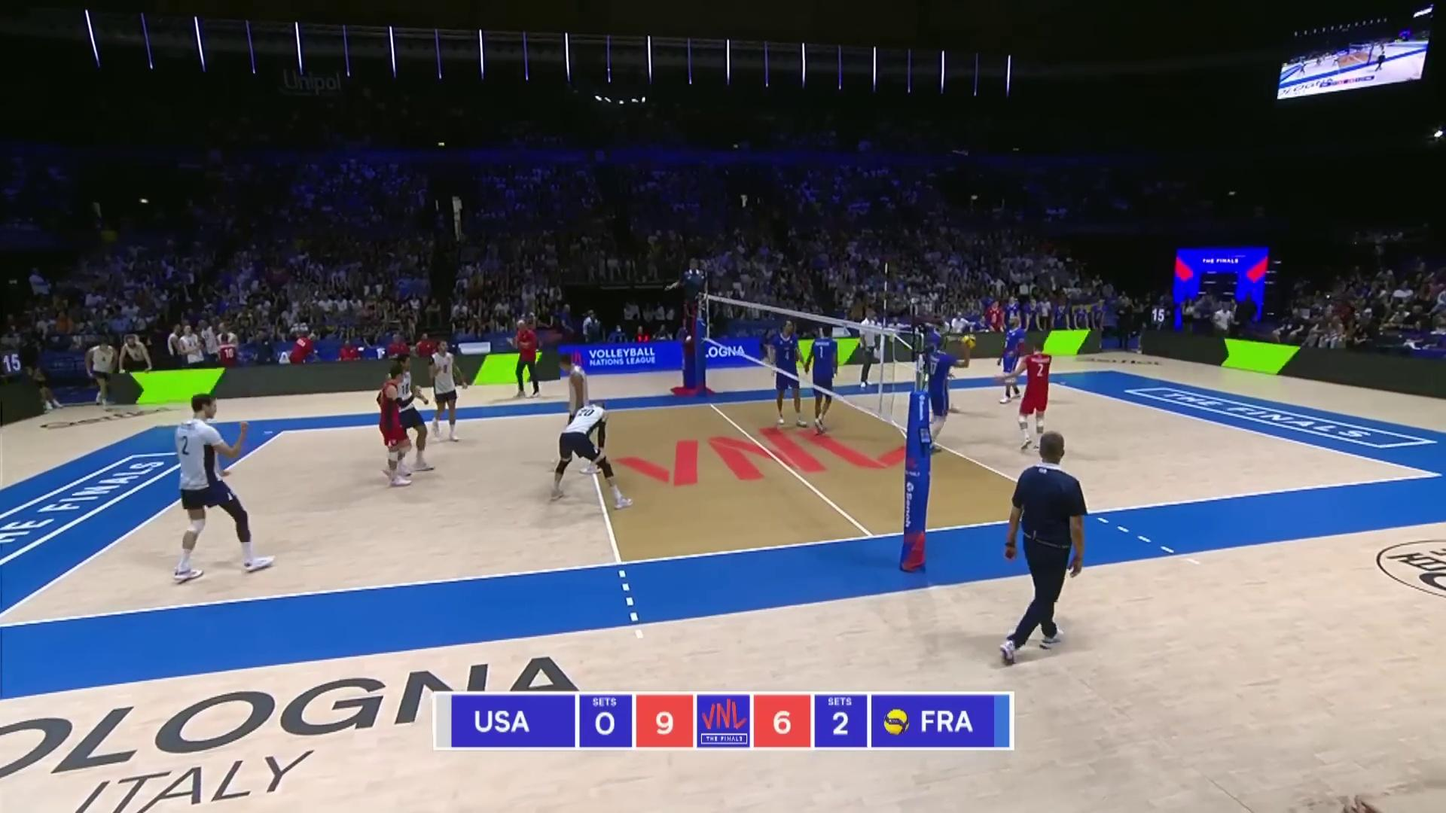player: (175, 393, 277, 585), (553, 399, 632, 510), (553, 354, 596, 474), (389, 356, 432, 472), (1013, 341, 1055, 448), (377, 368, 414, 488), (770, 321, 810, 426), (924, 338, 958, 449), (429, 341, 462, 443), (810, 326, 838, 432), (1000, 318, 1023, 403)
refree: (1002, 437, 1083, 661), (680, 260, 708, 338)
